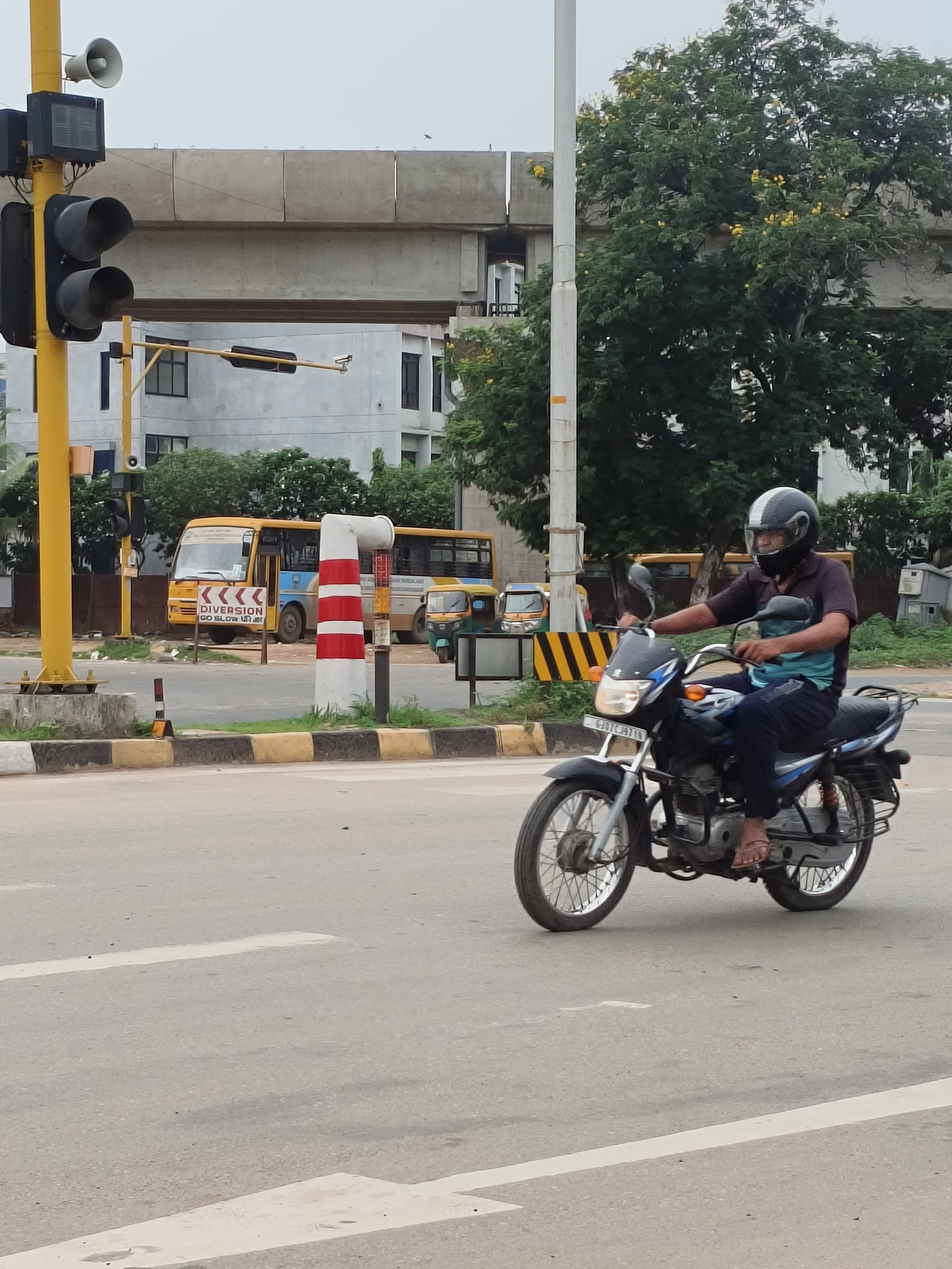BikeWithRider: (508, 479, 919, 938)
Helmet: (740, 482, 827, 574)
